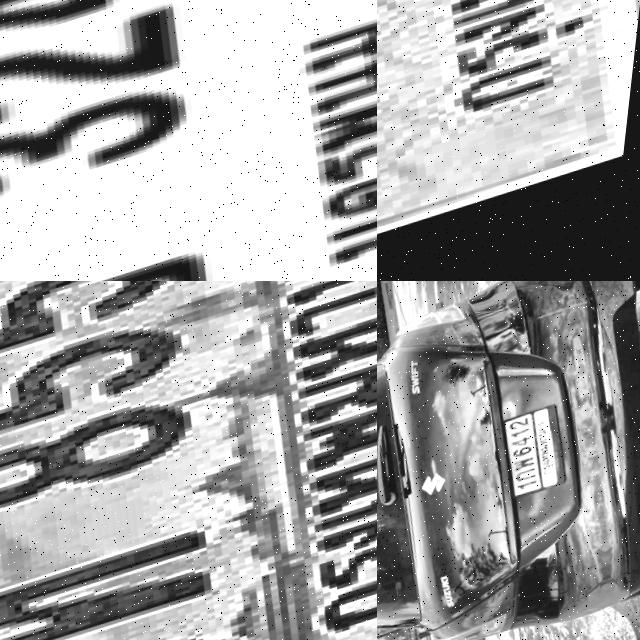license-plate: (0, 281, 377, 640), (0, 0, 377, 281), (377, 0, 640, 281), (498, 408, 581, 509)
